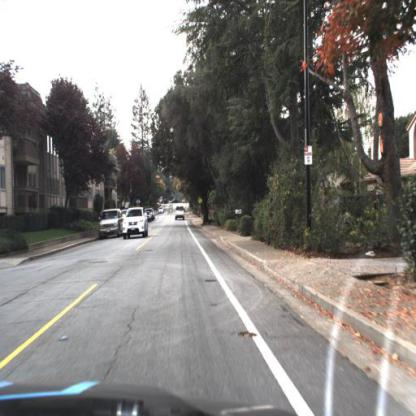car: (123, 207, 150, 239), (99, 207, 125, 239), (175, 205, 187, 222), (148, 211, 153, 223)
